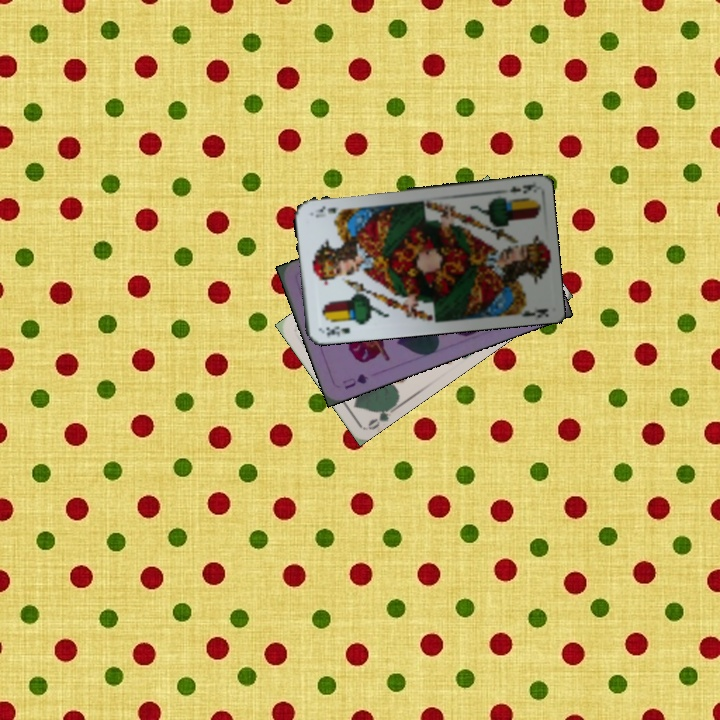EK: (322, 322, 352, 340), (506, 181, 536, 196)
GO: (364, 400, 400, 432)
GU: (339, 369, 371, 392)
